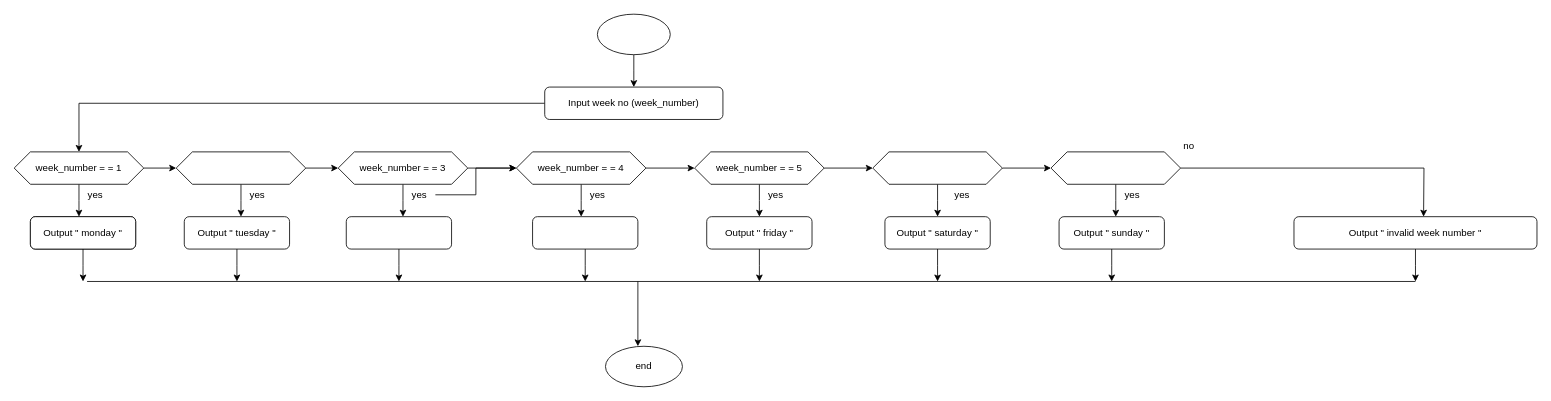
Some shapes in this 1551 by 401 pixel diagram are drawn without their labels. Here are the shapes that lost their labels. From the top down, the centre of each, then its label:
the point at 633,34: start
the point at 240,167: week_number = = 2
the point at 937,167: week_number = = 6
the point at 1115,167: week_number = = 7
the point at 398,232: Output " wednesday "
the point at 585,232: Output " thursday "
